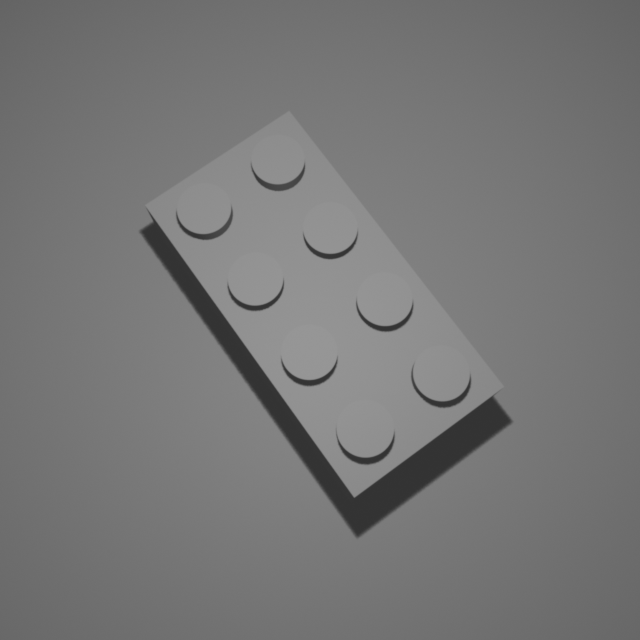lego_2x4: (141, 103, 508, 503)
